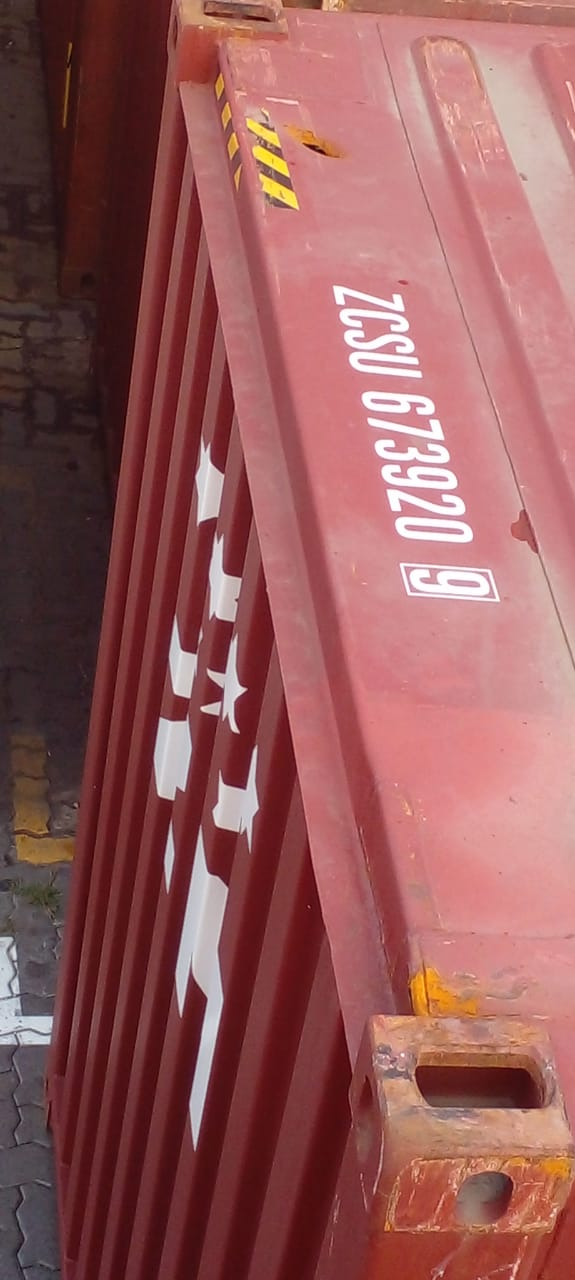left_side: (1, 1, 430, 1244)
top_side: (181, 3, 575, 1232)
